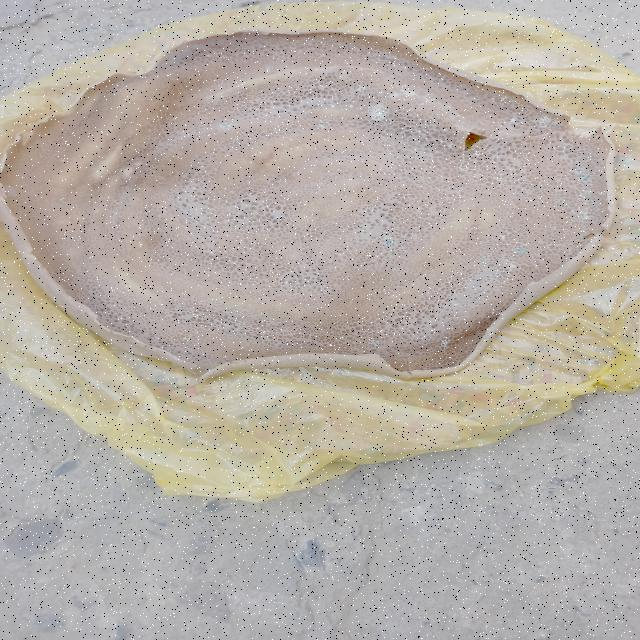injera_mold: (570, 201, 610, 227), (388, 82, 420, 101), (421, 93, 454, 110), (304, 116, 336, 132), (364, 103, 392, 121), (489, 171, 510, 192), (575, 187, 606, 200), (493, 259, 518, 275), (536, 115, 562, 130), (203, 47, 231, 60), (457, 162, 482, 176), (436, 336, 454, 351), (367, 337, 384, 348), (490, 94, 508, 104), (514, 245, 529, 255), (180, 335, 193, 346), (354, 84, 368, 94), (217, 123, 233, 131), (580, 174, 594, 183), (554, 198, 566, 208), (384, 237, 395, 247), (509, 116, 518, 125), (498, 233, 511, 239), (346, 103, 357, 110), (264, 65, 275, 71), (473, 151, 482, 158), (449, 300, 459, 306), (58, 157, 67, 163), (58, 196, 67, 202), (575, 168, 585, 172), (480, 259, 487, 264), (331, 104, 338, 109), (478, 241, 484, 244), (552, 227, 558, 230), (309, 100, 313, 103), (567, 144, 571, 147)
